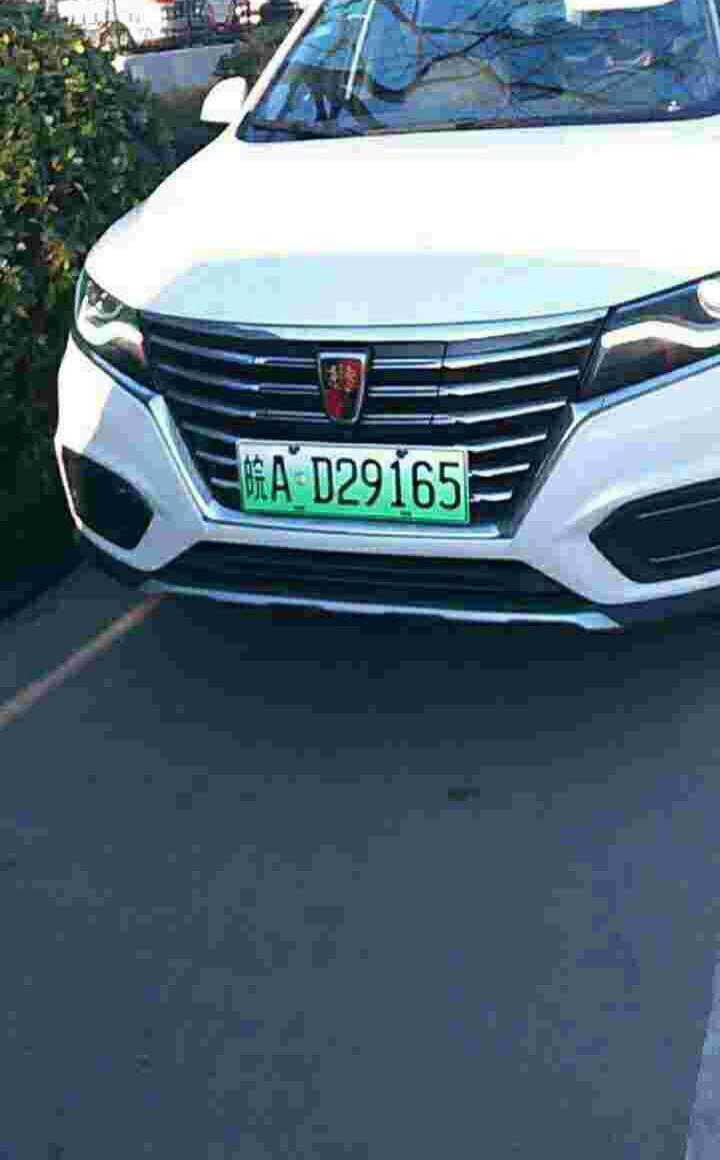car: (229, 444, 482, 522)
